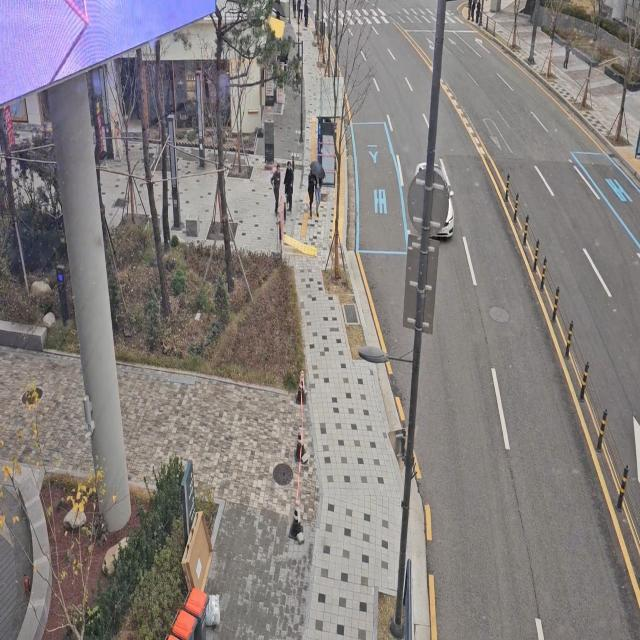Car: (412, 148, 454, 246)
